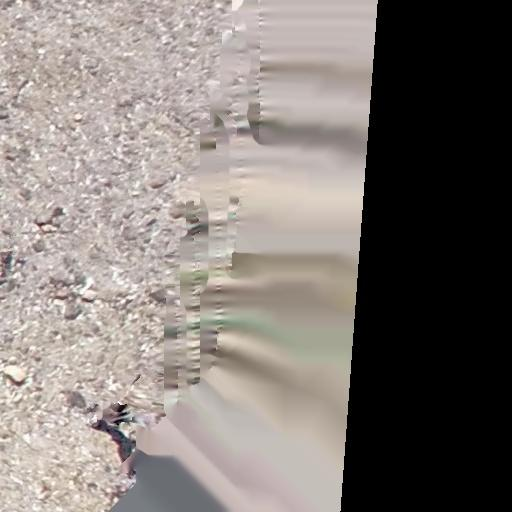stone: (56, 244, 85, 286), (36, 206, 70, 232), (61, 302, 86, 336), (4, 360, 30, 390), (46, 275, 73, 300), (2, 211, 14, 237), (79, 288, 93, 306)
